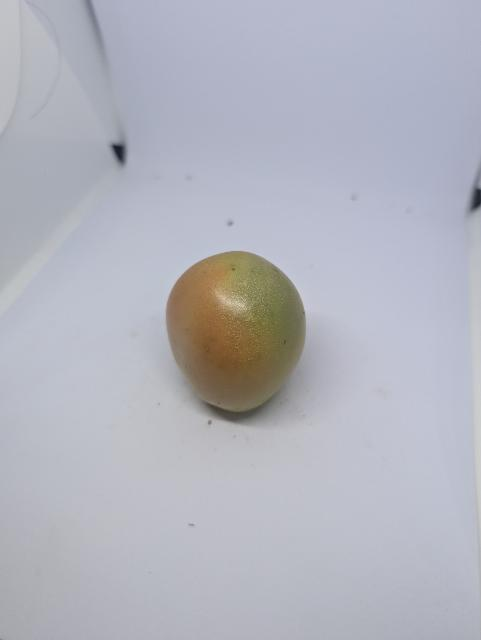breaker: (159, 249, 314, 416)
